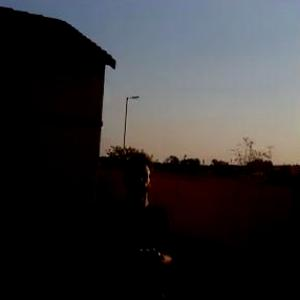follow: (90, 154, 179, 299)
